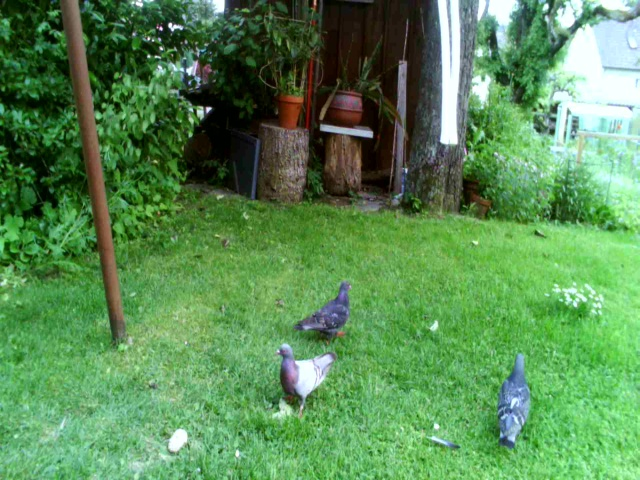Pigeon: (492, 346, 539, 458), (272, 342, 341, 417), (295, 277, 362, 344)
